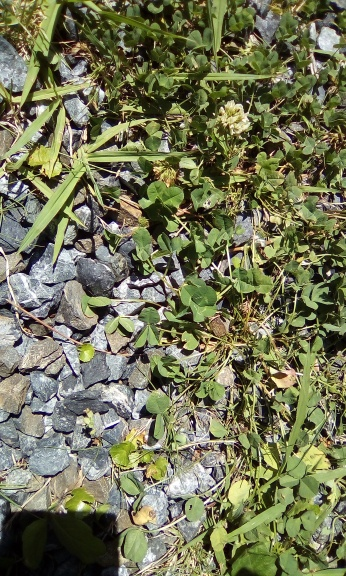4leaf: (180, 284, 217, 323)
